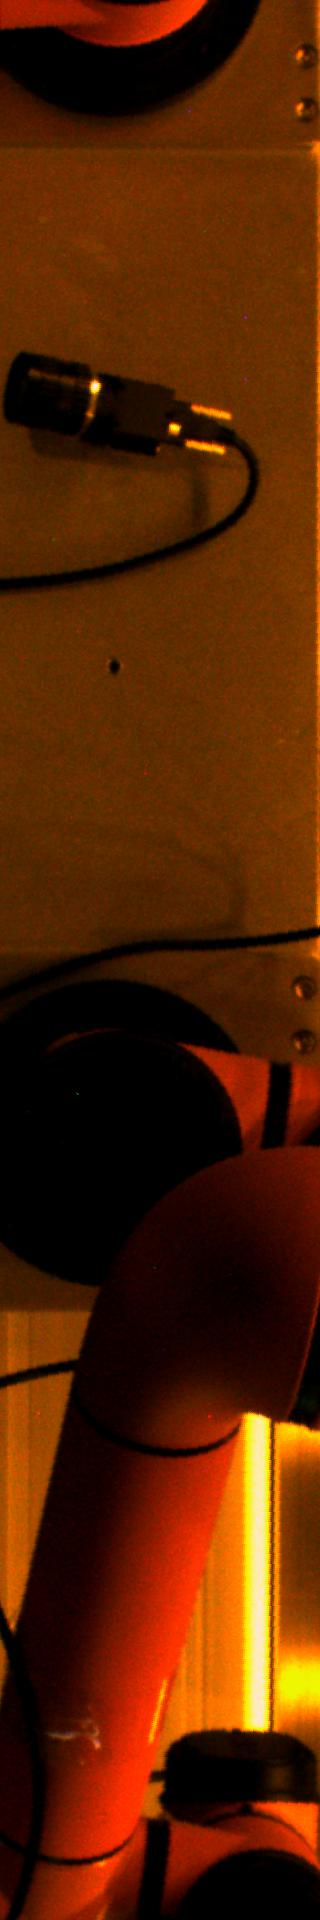keyPoint_2: (98, 653, 128, 683)
